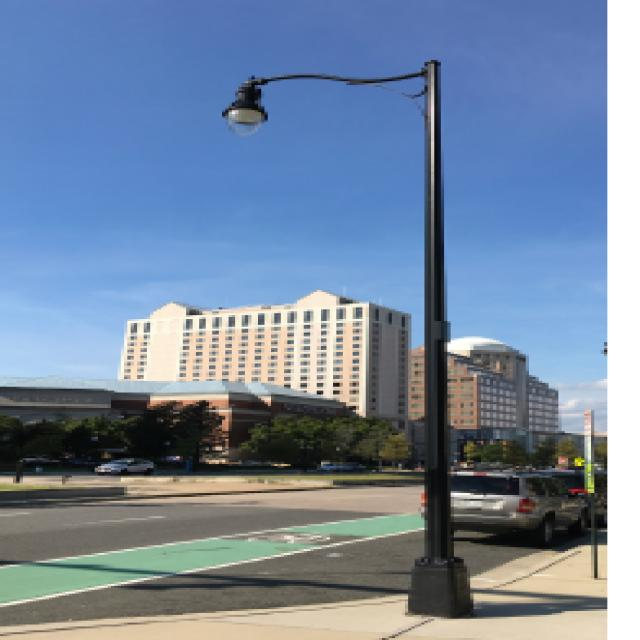Electric pole: (222, 60, 473, 618)
